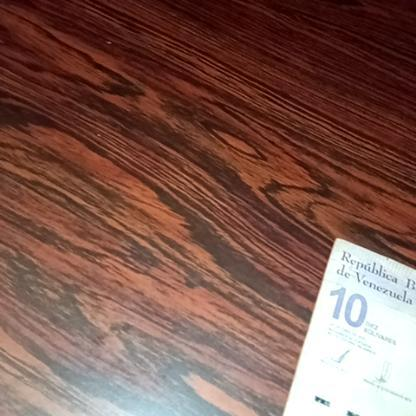vef_front: (242, 237, 416, 416)
